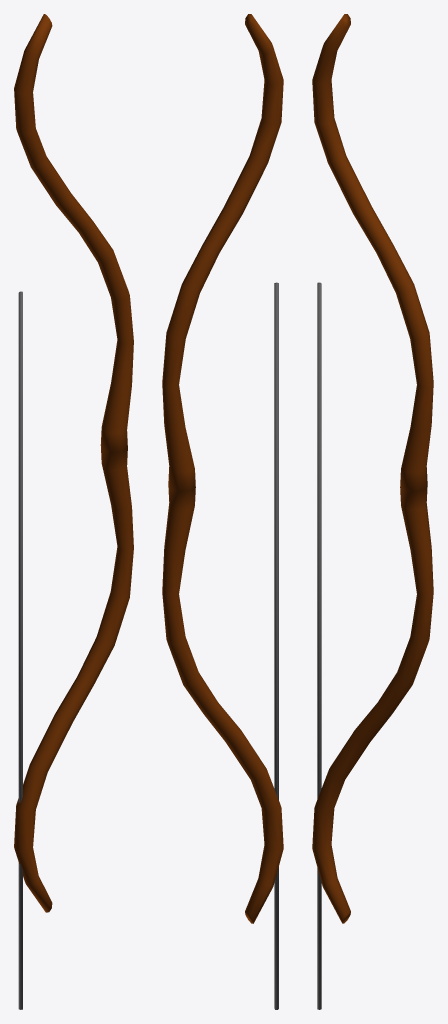
The model's file is bow.glb.
The picture shows the model from 3 angles, left to right: view 1: azimuth 30°, elevation 25°; view 2: azimuth 210°, elevation 25°; view 3: azimuth 330°, elevation 25°; orthographic projection.
Parts seen in each view (by area): view 1: Bow_5; view 2: Bow_5; view 3: Bow_5.
Part boxes in pixels (bbox=[...]): Bow_5: bbox=[14, 14, 133, 1009]; Bow_5: bbox=[162, 14, 283, 1009]; Bow_5: bbox=[312, 14, 433, 1009].
Bounding box in the file's own units: 0.159 × 1.27 × 0.0328.
